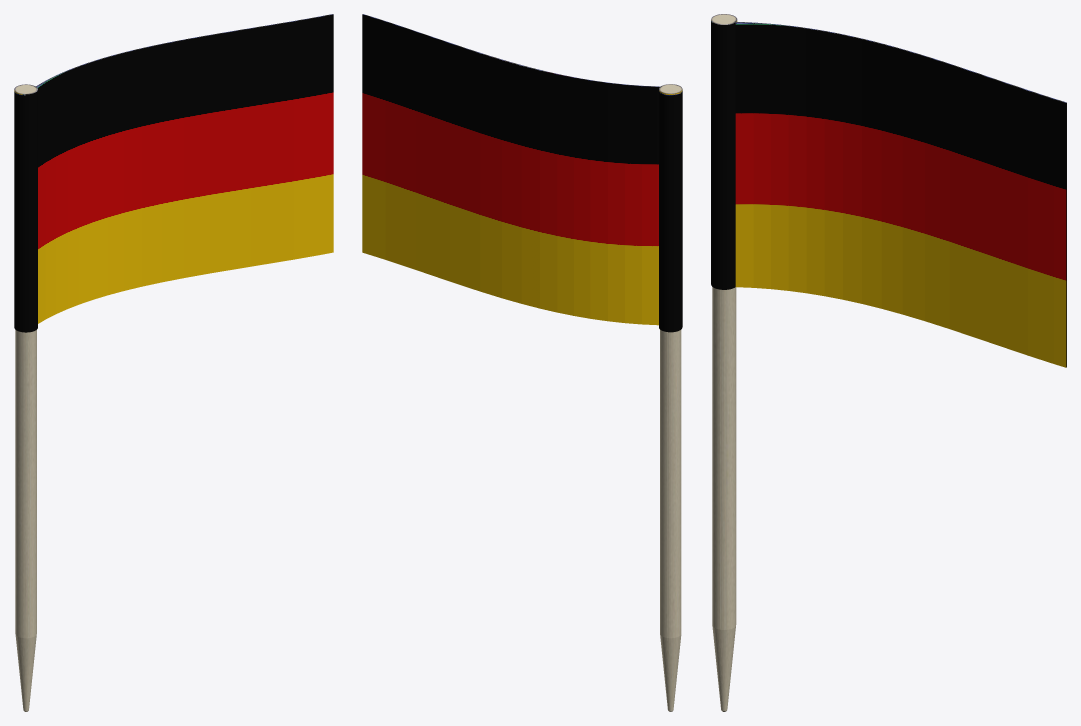
File: GermanyFlag.fbx
3 renders of one model, left to right at view 1: azimuth 30°, elevation 25°; view 2: azimuth 150°, elevation 25°; view 3: azimuth 330°, elevation 25°, orthographic. The views are drawn at different scales.
Visible parts, largest first — view 1: Toothpick flag; view 2: Toothpick flag; view 3: Toothpick flag.
Part boxes in pixels (x1,y1,x2,y2): Toothpick flag: (14, 14, 333, 711); Toothpick flag: (362, 14, 682, 711); Toothpick flag: (711, 14, 1066, 711).
Size of the model in its own units: 3.42 by 6.4 by 0.3623.
1 material, 1 textured.
